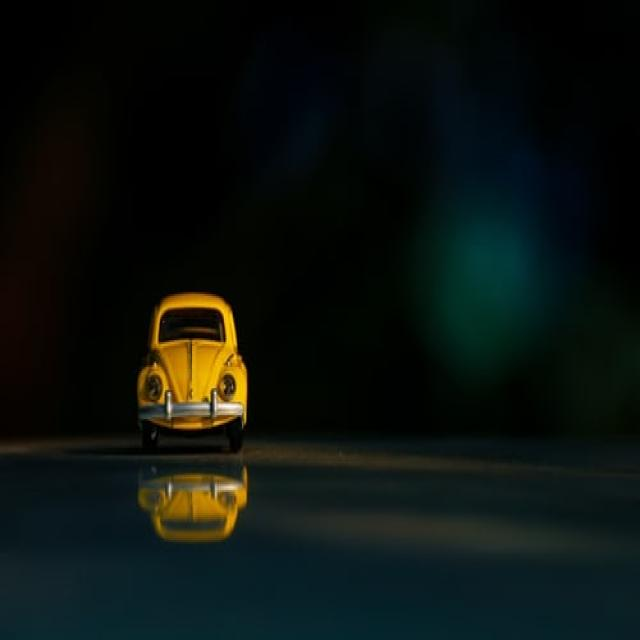Car: (136, 290, 248, 452)
